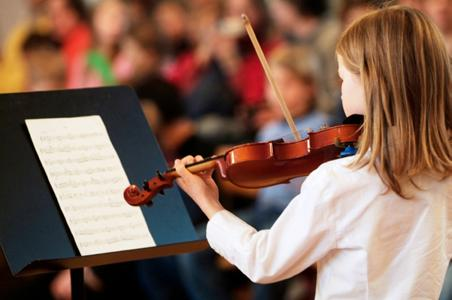person: (174, 7, 452, 300)
